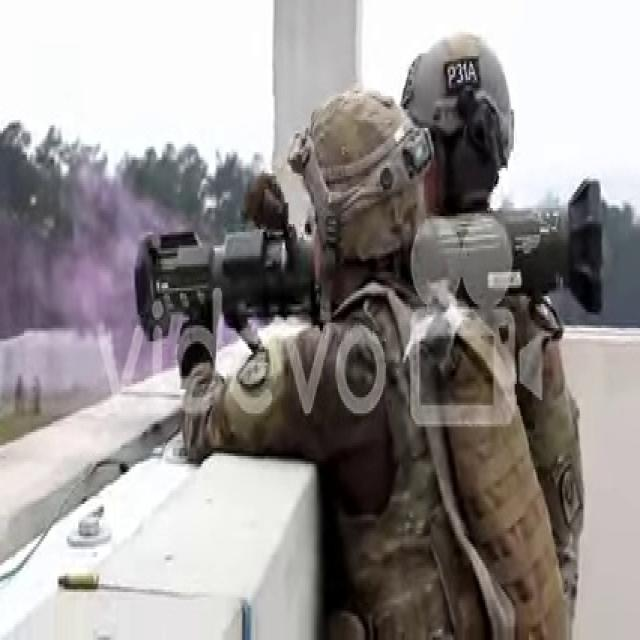bazooka: (131, 169, 618, 331)
